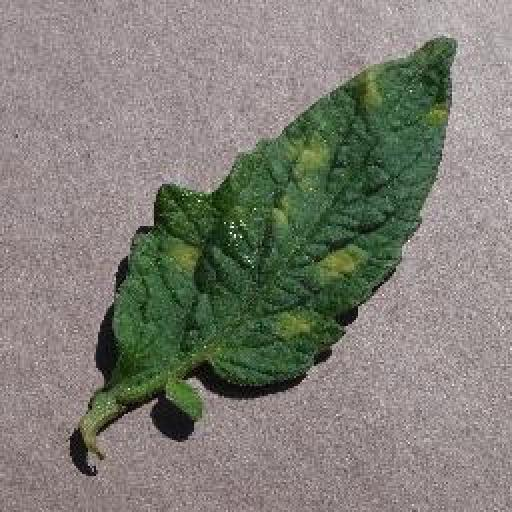Leaf Mold: (111, 30, 456, 390)
